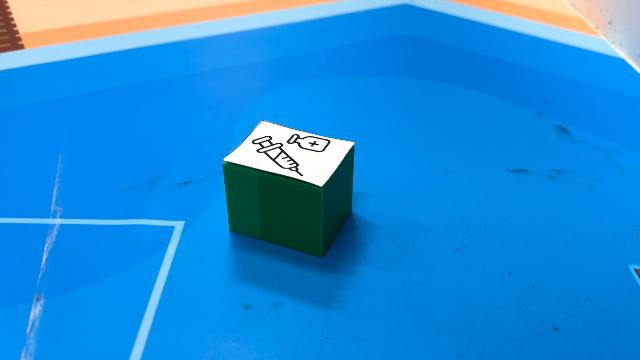syringe: (222, 119, 354, 258)
